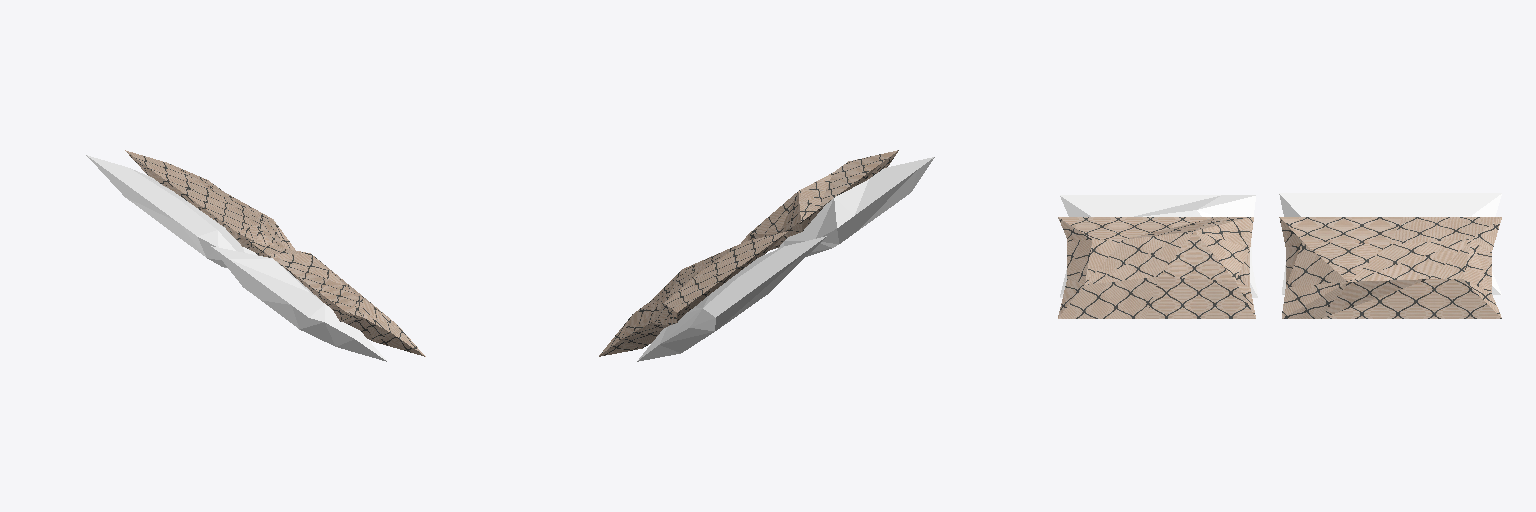
3 renders of one model, left to right at view 1: azimuth 30°, elevation 25°; view 2: azimuth 150°, elevation 25°; view 3: azimuth 270°, elevation 25°, orthographic.
Visible parts, largest first — view 1: Mesh4_pillow_2_2_Group1_Model; view 2: Mesh4_pillow_2_2_Group1_Model; view 3: Mesh4_pillow_2_2_Group1_Model.
Boxes of the visible parts, x1=… form: Mesh4_pillow_2_2_Group1_Model: x1=86, y1=150, x2=425, y2=361; Mesh4_pillow_2_2_Group1_Model: x1=599, y1=150, x2=934, y2=361; Mesh4_pillow_2_2_Group1_Model: x1=1058, y1=193, x2=1501, y2=318.
Size of the model in its own units: 0.3057 by 0.1687 by 1.
2 materials, 1 textured.